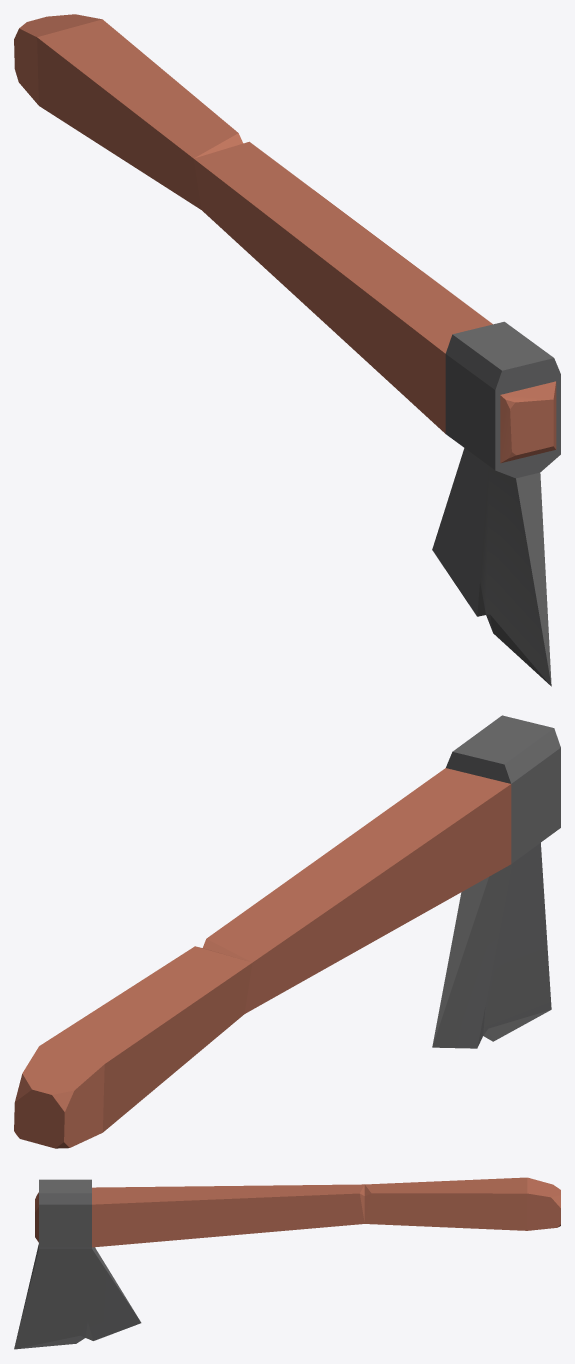
The model's file is Axe_Mesh.fbx.
3 views of the same model, one above another, from view 1: azimuth 30°, elevation 25°; view 2: azimuth 150°, elevation 25°; view 3: azimuth 270°, elevation 25° (orthographic). The views are drawn at different scales.
Visible parts, largest first — view 1: Axe; view 2: Axe; view 3: Axe.
Part boxes in pixels (box(x1,y1,x2,y2)): Axe: box(14, 14, 560, 686); Axe: box(14, 715, 560, 1148); Axe: box(14, 1177, 560, 1349).
Bounding box in the file's own units: 14.15 × 61.7 × 186.
1 material, 1 textured.
